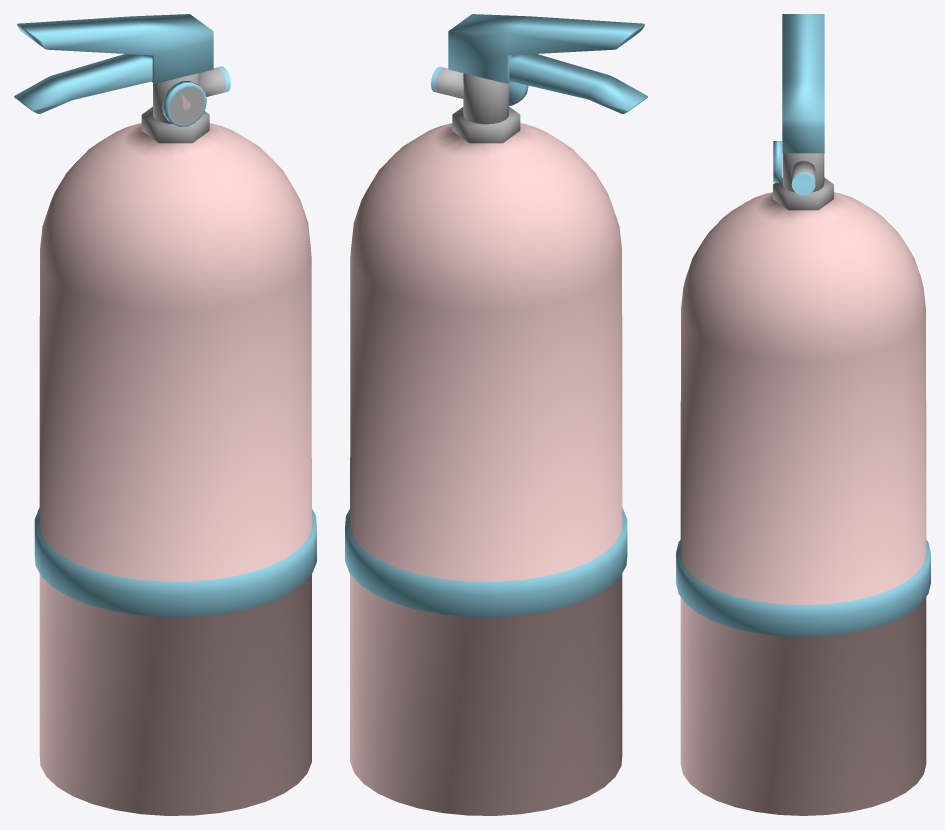
Rendered from notdoneyet27902.glb.
3 renders of one model, left to right at view 1: azimuth 30°, elevation 25°; view 2: azimuth 150°, elevation 25°; view 3: azimuth 270°, elevation 25°, orthographic. The views are drawn at different scales.
Visible parts, largest first — view 1: Cylinder; view 2: Cylinder; view 3: Cylinder.
Boxes of the visible parts, <box> form: Cylinder: <box>14,14,316,815</box>; Cylinder: <box>345,14,647,815</box>; Cylinder: <box>676,14,930,815</box>.
Size of the model in its own units: 0.6972 by 1.85 by 0.6225.
